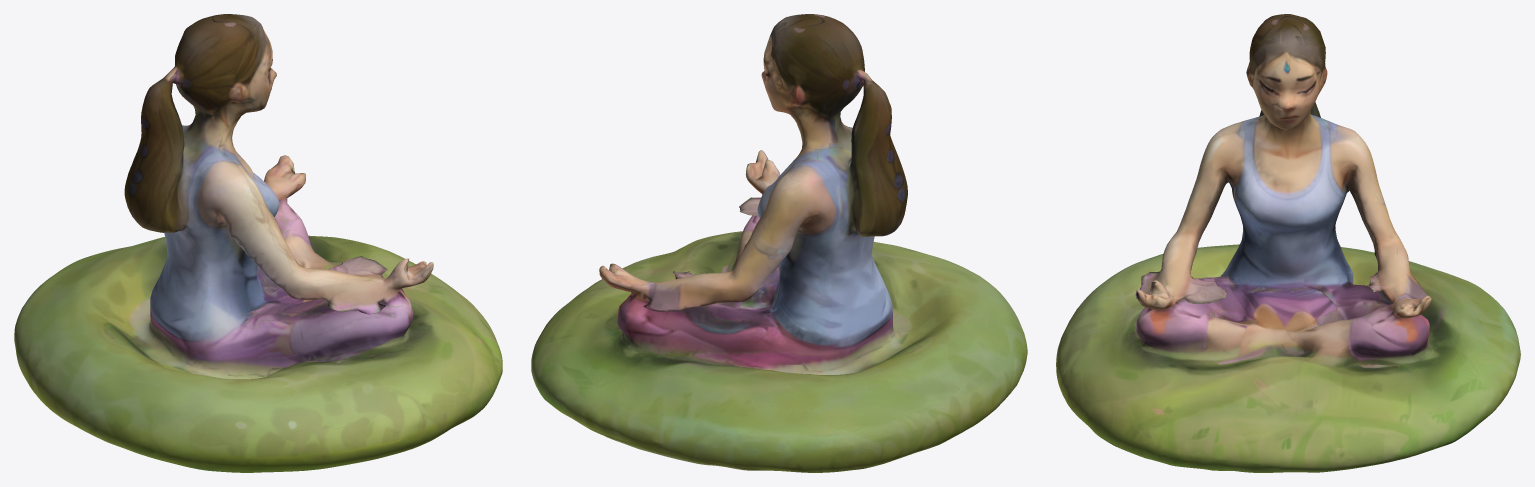
Rendered from meditation-model.glb.
3 views of the same model, side by side, from view 1: azimuth 30°, elevation 25°; view 2: azimuth 150°, elevation 25°; view 3: azimuth 270°, elevation 25° (orthographic). The views are drawn at different scales.
Size of the model in its own units: 1.18 by 1.04 by 1.2.
Materials: 1 (1 with a texture image).
